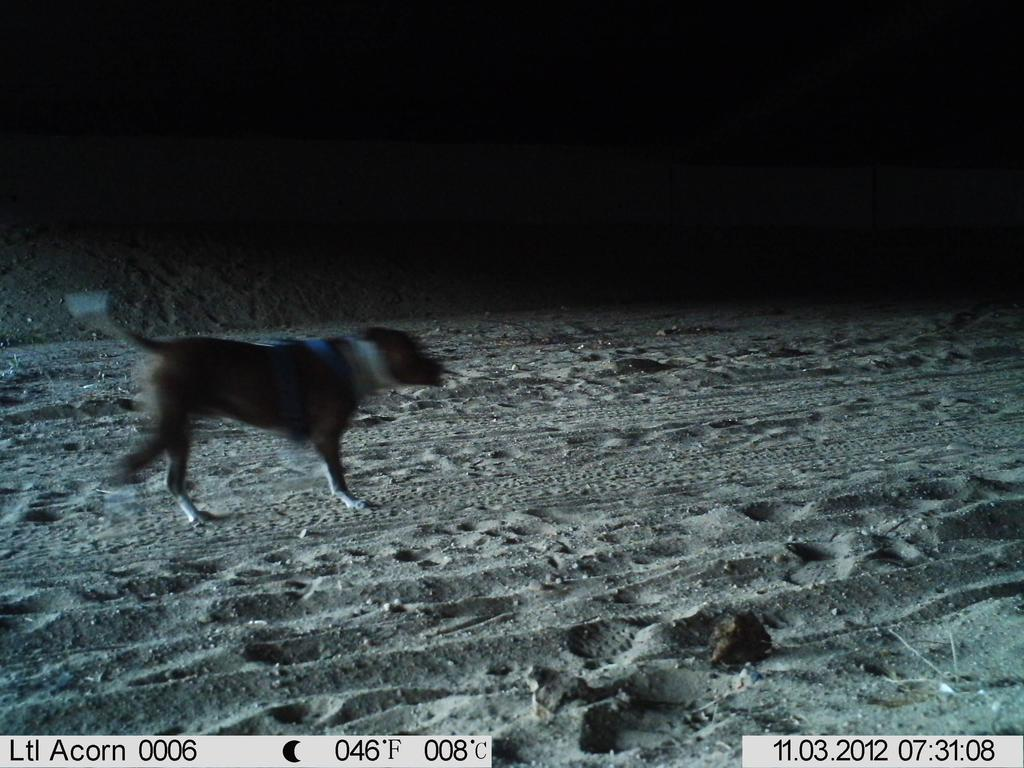dog: (82, 283, 461, 543)
